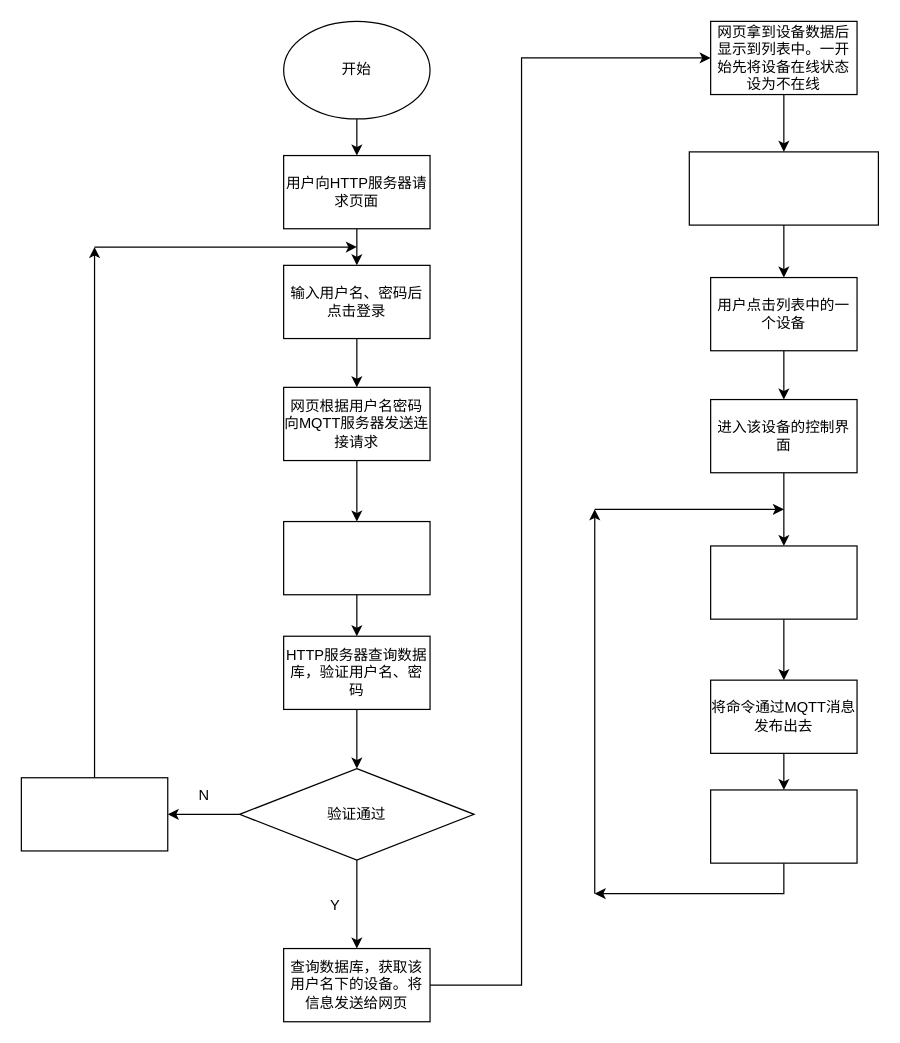
The diagram is 900 pixels wide and 1043 high, and some of its shapes have lost their labels. Each missing label, with the centre of its shape:
MQTT服务器向HTTP服务器发送请求，要求进行用户验证: [356,557]
告诉用户：用户名或密码不正确: [94,814]
对每个设备发送mqtt消息，等待设备回复。收到一个设备的回复后就将该设备的在线状态设为在线: [783,188]
物联网设备接到命令，执行操作: [783,826]
用户发送命令: [783,582]
